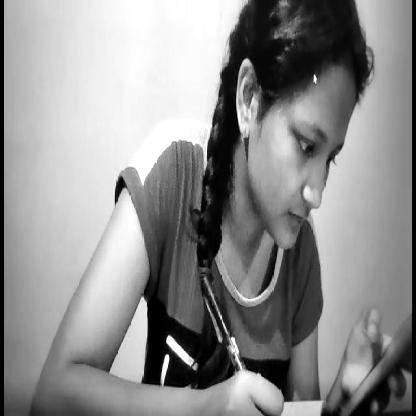Distracted: (226, 0, 362, 263)
